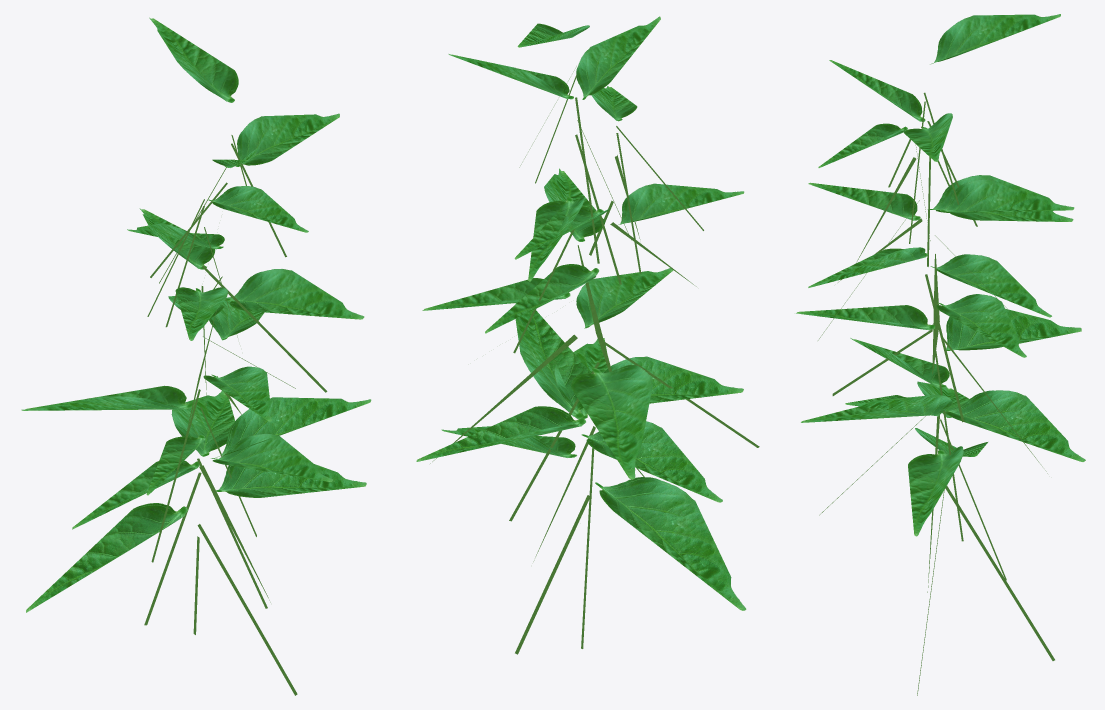
The model's file is Leafy Herb B.glb.
The picture shows the model from 3 angles, left to right: view 1: azimuth 30°, elevation 25°; view 2: azimuth 150°, elevation 25°; view 3: azimuth 270°, elevation 25°; orthographic projection. The views are drawn at different scales.
Parts seen in each view (by area): view 1: Leafy Herb B; view 2: Leafy Herb B; view 3: Leafy Herb B.
Boxes of the visible parts, x1,y1,x2,y2 form: Leafy Herb B: (21, 17, 371, 695); Leafy Herb B: (416, 16, 759, 654); Leafy Herb B: (796, 14, 1085, 695).
Size of the model in its own units: 0.5833 by 1.1 by 0.467.
1 material, 1 textured.
